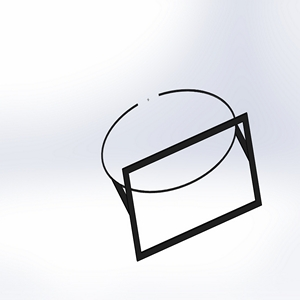circle: (99, 85, 264, 262)
